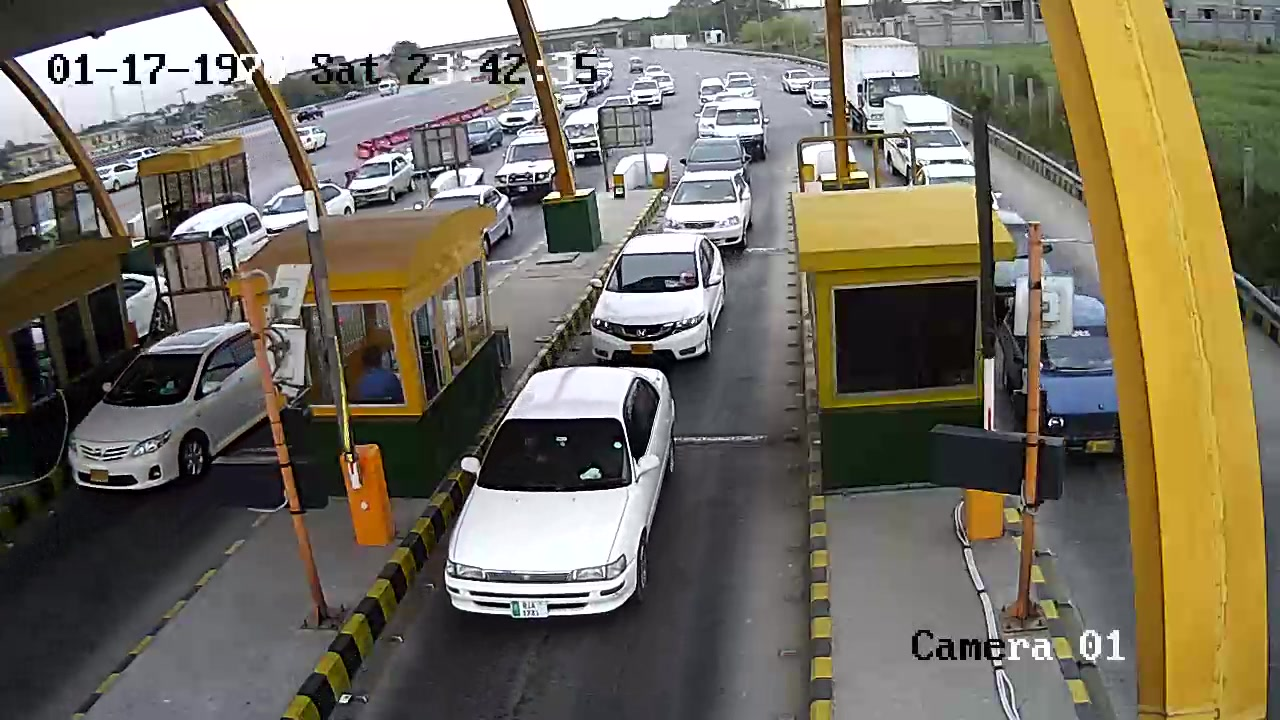F1: (439, 358, 716, 636)
